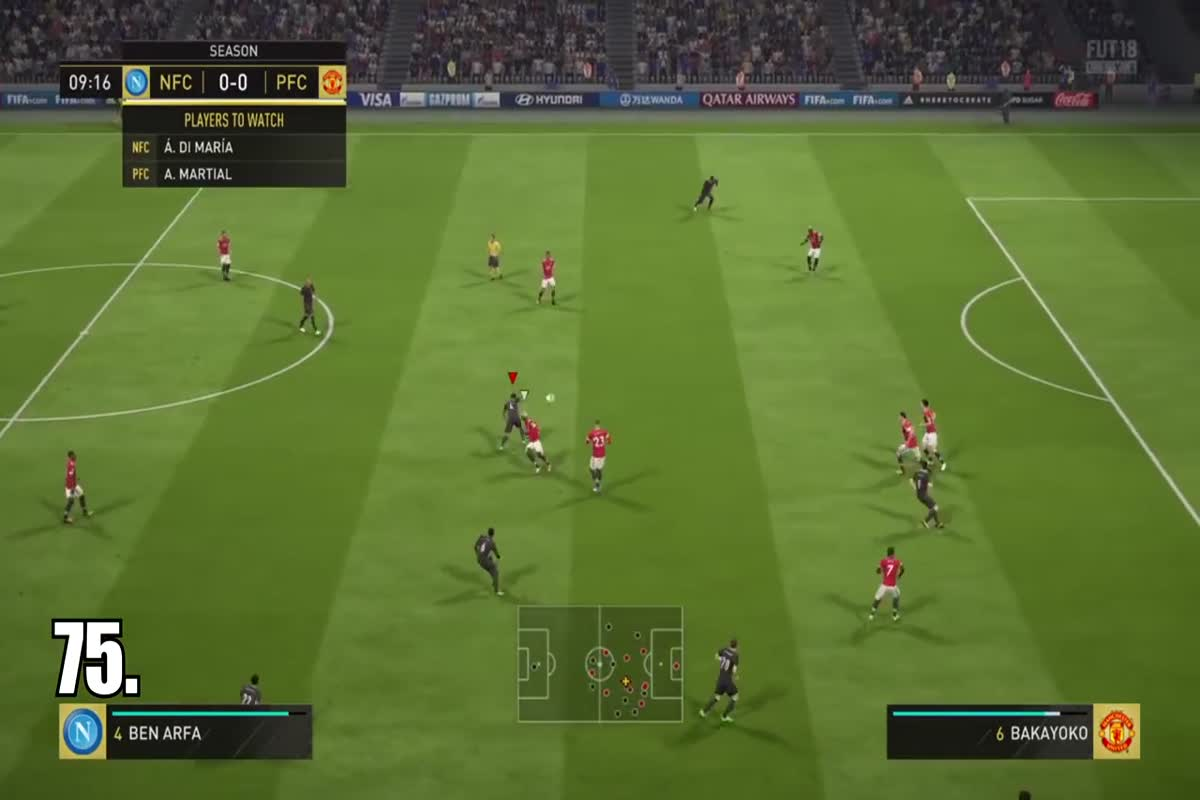ball: (533, 381, 575, 415)
